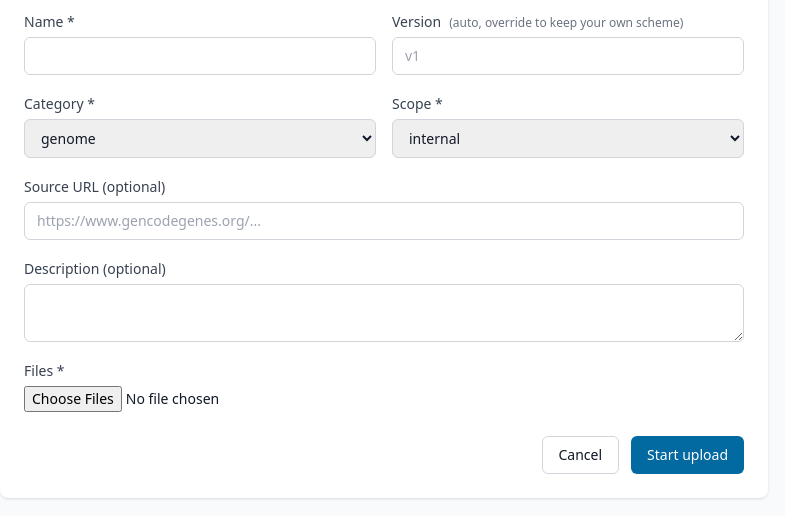
UploadReferenceForm - auto-version prefill › Predicts the version after the user types a name that matches an existing reference
The width and height of the screenshot is (785, 516).
Type "Mouse mm10" into the field labelled "Name *".
click(200, 56); type("Mouse mm10")  # box [24, 37, 376, 75]
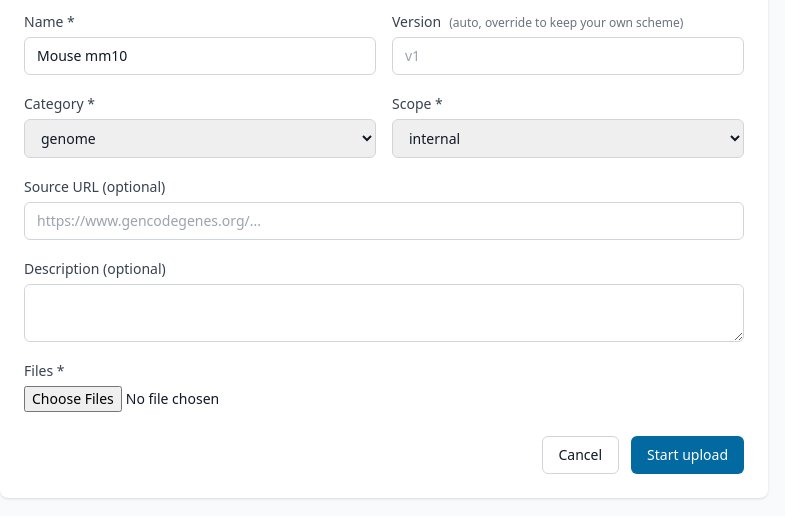
Leave the field labelled "Name *", box [24, 37, 376, 75]
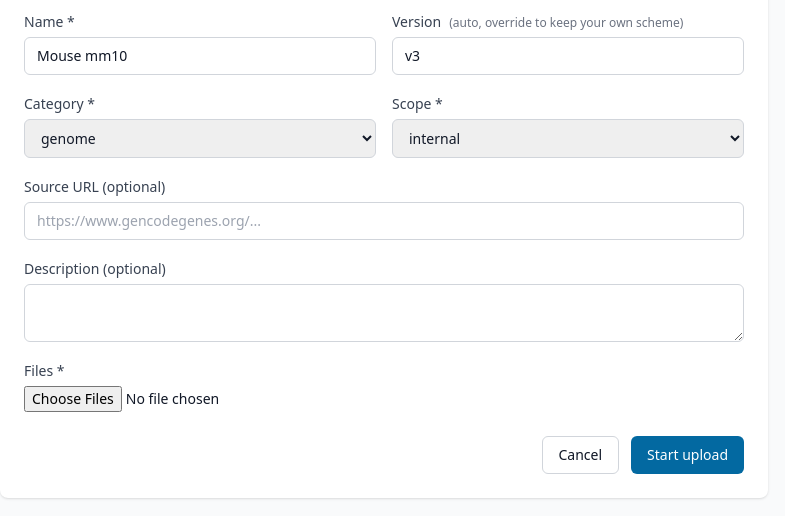
Expected: the field labelled "Version(auto, override to keep your own scheme)" holds "v3", [392, 37, 744, 75]
